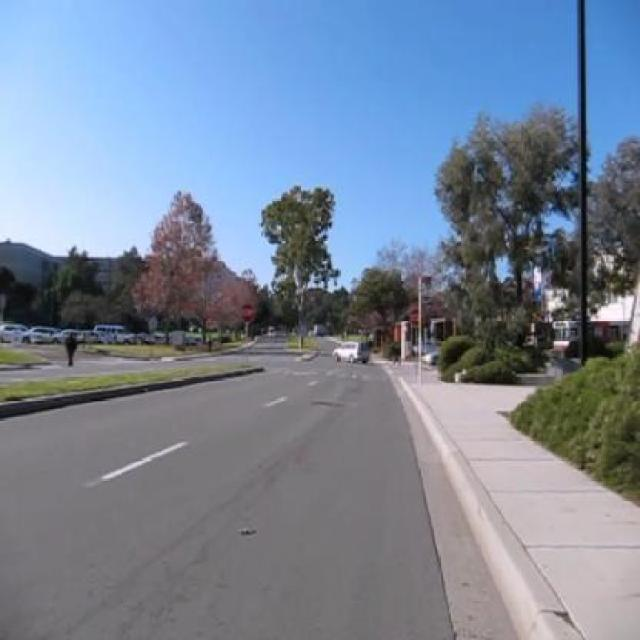stop: (238, 302, 254, 323), (408, 308, 424, 328)
